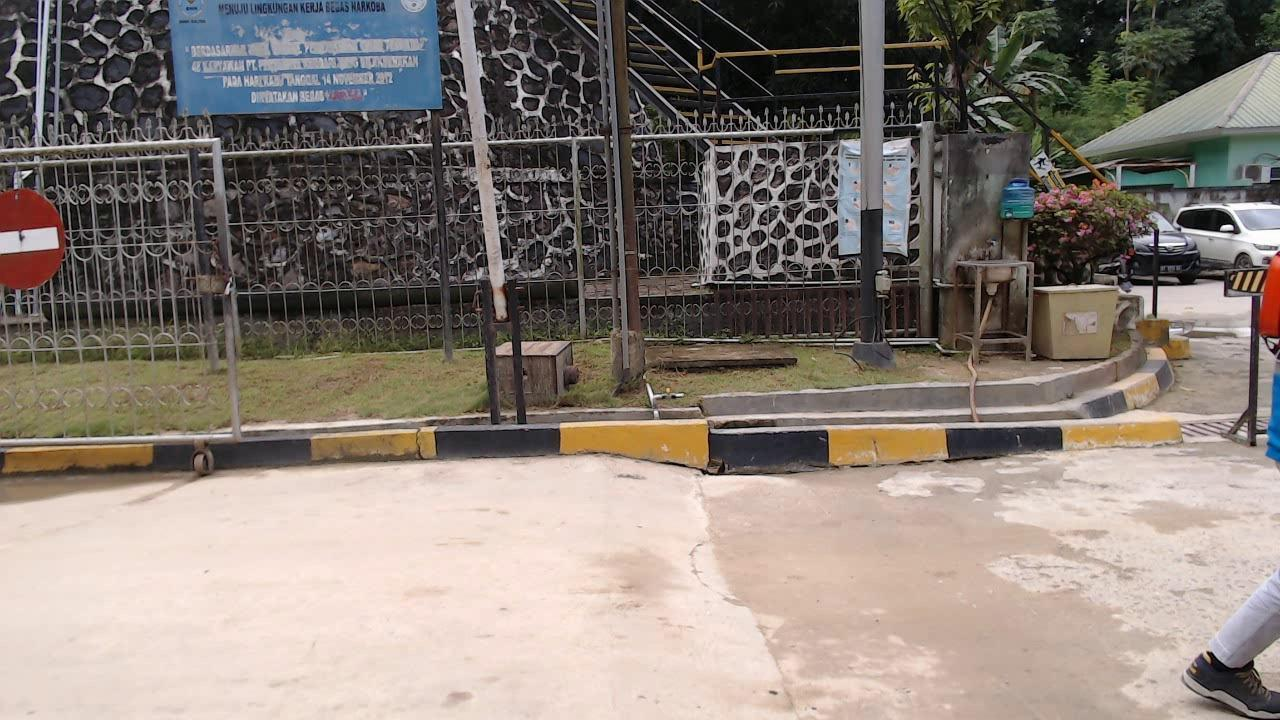vest: (1250, 251, 1280, 350)
